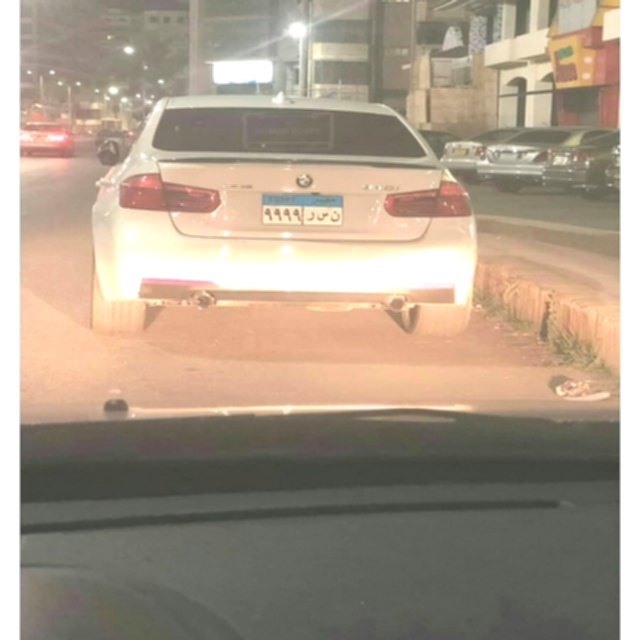License Plate: (260, 192, 346, 227)
